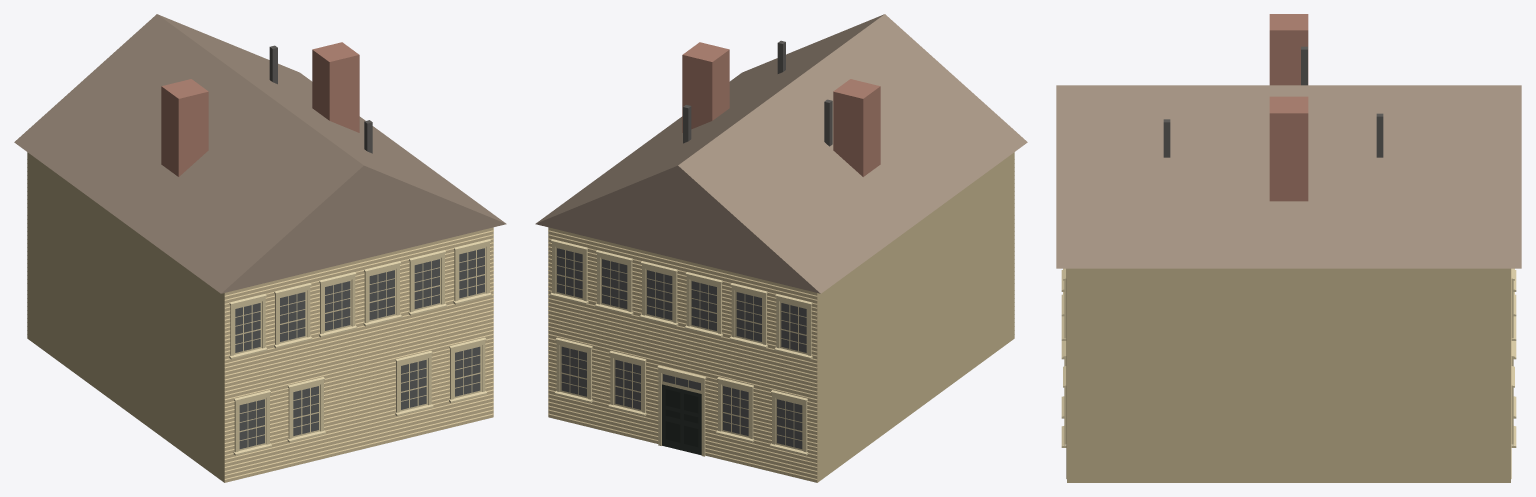
The model's file is recon_1835_north_h2_022__inferred_1835.glb.
3 views of the same model, side by side, from view 1: azimuth 30°, elevation 25°; view 2: azimuth 150°, elevation 25°; view 3: azimuth 270°, elevation 25° (orthographic). The views are drawn at different scales.
Visible parts, largest first — view 1: recon_1835_north_h2_022__inferred_1835; view 2: recon_1835_north_h2_022__inferred_1835; view 3: recon_1835_north_h2_022__inferred_1835.
Boxes of the visible parts, bbox=[...] form: recon_1835_north_h2_022__inferred_1835: bbox=[14, 14, 506, 482]; recon_1835_north_h2_022__inferred_1835: bbox=[535, 14, 1027, 482]; recon_1835_north_h2_022__inferred_1835: bbox=[1056, 14, 1521, 482].
Size of the model in its own units: 8.57 by 8.8 by 10.74.
